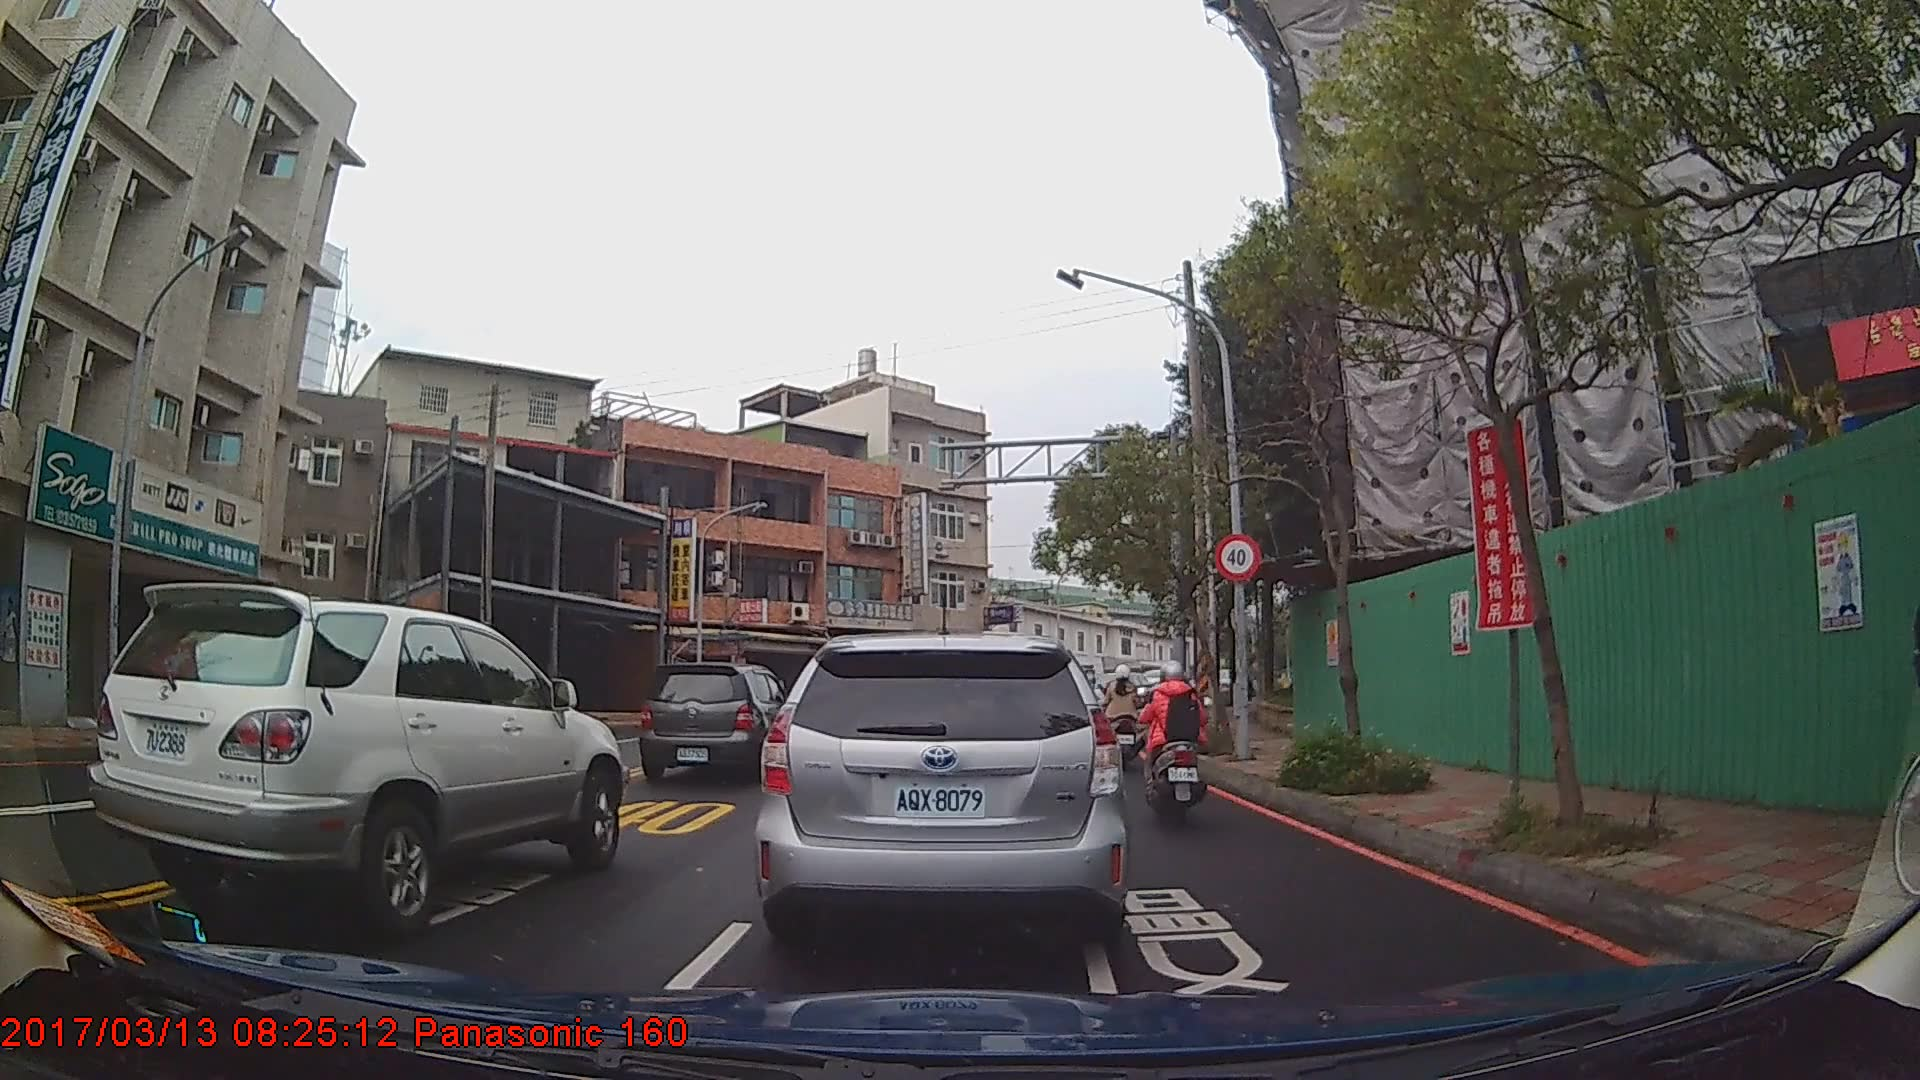rider: (1138, 663, 1212, 825), (1103, 669, 1141, 772)
vehicle: (86, 581, 623, 933), (752, 632, 1129, 956), (638, 662, 792, 781)
